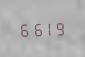nine: (54, 19, 65, 36)
one: (42, 19, 53, 36)
six: (18, 20, 29, 37), (30, 20, 41, 37)
